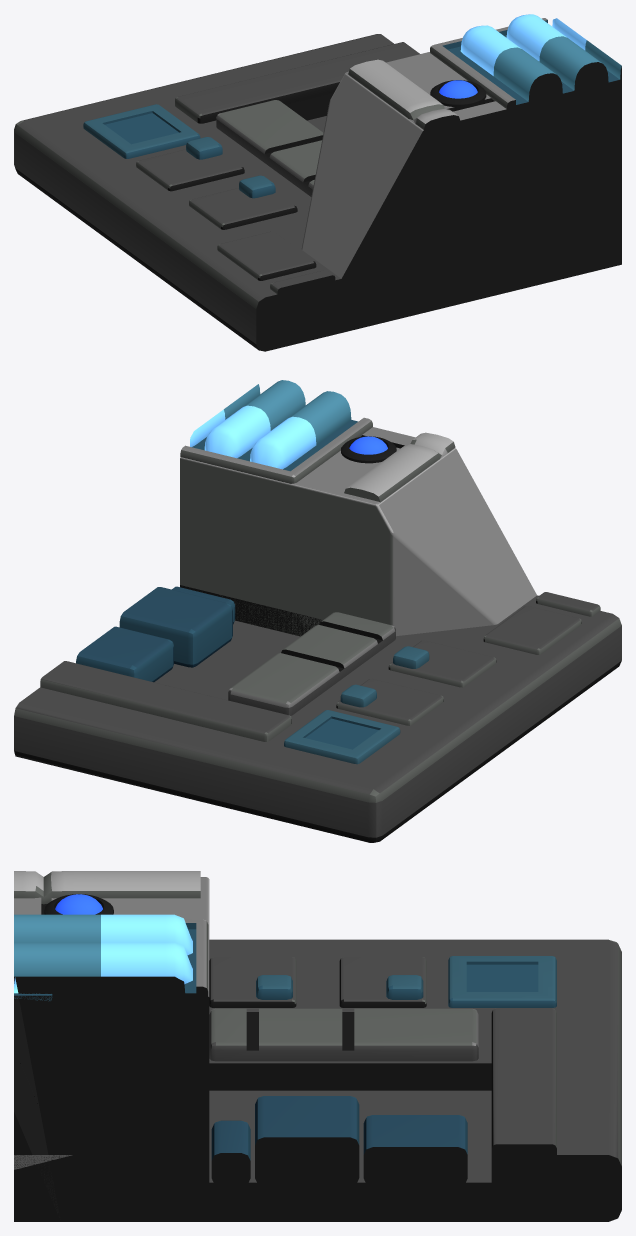
The model's file is ice_bunker_tl.glb.
3 renders of one model, top to bottom at view 1: azimuth 30°, elevation 25°; view 2: azimuth 150°, elevation 25°; view 3: azimuth 270°, elevation 25°, orthographic. The views are drawn at different scales.
Visible parts, largest first — view 1: ice_bunker_tl; view 2: ice_bunker_tl; view 3: ice_bunker_tl.
Boxes of the visible parts, x1,y1,x2,y2 form: ice_bunker_tl: (14, 14, 621, 351); ice_bunker_tl: (14, 380, 621, 842); ice_bunker_tl: (14, 871, 621, 1221).
Size of the model in its own units: 24 by 13.12 by 28.
